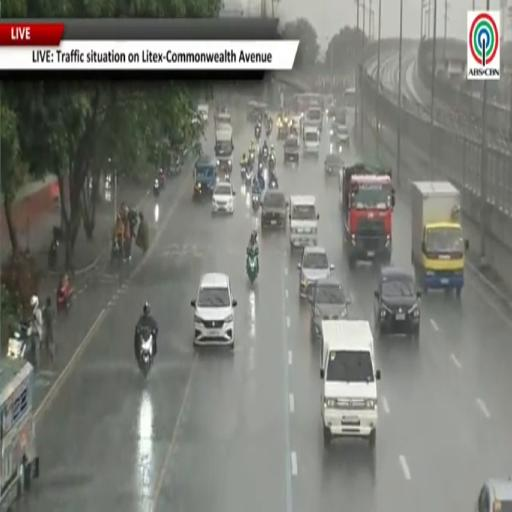car: (374, 266, 420, 339), (191, 274, 236, 348), (309, 277, 350, 341), (298, 246, 334, 298), (289, 196, 319, 250), (476, 478, 511, 511), (261, 190, 287, 229), (212, 182, 235, 214), (284, 135, 300, 164), (324, 153, 344, 173), (246, 100, 258, 122), (198, 104, 209, 122)
motorcycle: (7, 322, 32, 360), (137, 328, 153, 377), (56, 280, 74, 314), (48, 227, 62, 270), (246, 251, 258, 283), (48, 238, 59, 270), (111, 237, 123, 263), (128, 208, 138, 237), (252, 189, 260, 211), (158, 168, 165, 189), (248, 150, 256, 168), (153, 178, 160, 197), (268, 176, 278, 189), (269, 153, 276, 171), (245, 168, 251, 186), (262, 147, 268, 163), (266, 122, 272, 137), (255, 125, 261, 139), (241, 166, 246, 180)
truck: (412, 182, 468, 297), (340, 159, 395, 268), (0, 359, 38, 509), (194, 154, 217, 199), (215, 124, 233, 174)
